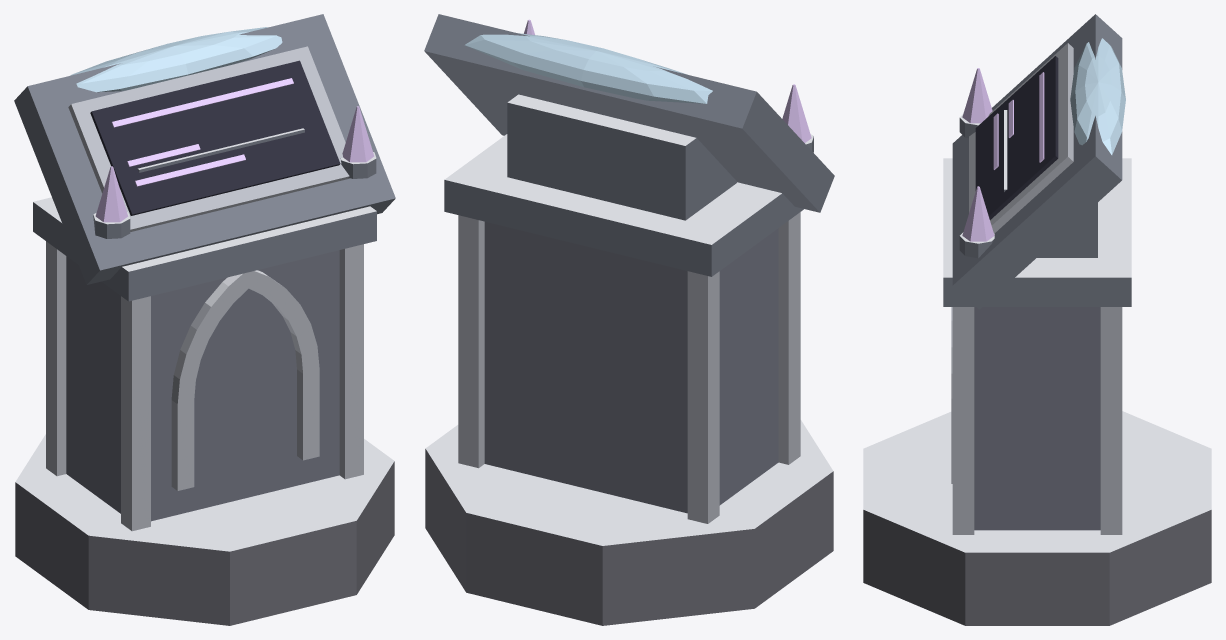
The model's file is PR_Painel_Controle.fbx.
3 views of the same model, side by side, from view 1: azimuth 30°, elevation 25°; view 2: azimuth 150°, elevation 25°; view 3: azimuth 270°, elevation 25° (orthographic). The views are drawn at different scales.
Visible parts, largest first — view 1: PR_Painel_Controle; view 2: PR_Painel_Controle; view 3: PR_Painel_Controle.
Boxes of the visible parts, x1,y1,x2,y2 form: PR_Painel_Controle: [14, 14, 395, 625]; PR_Painel_Controle: [424, 14, 834, 625]; PR_Painel_Controle: [863, 14, 1211, 625].
Size of the model in its own units: 1.29 by 1.93 by 1.29.
